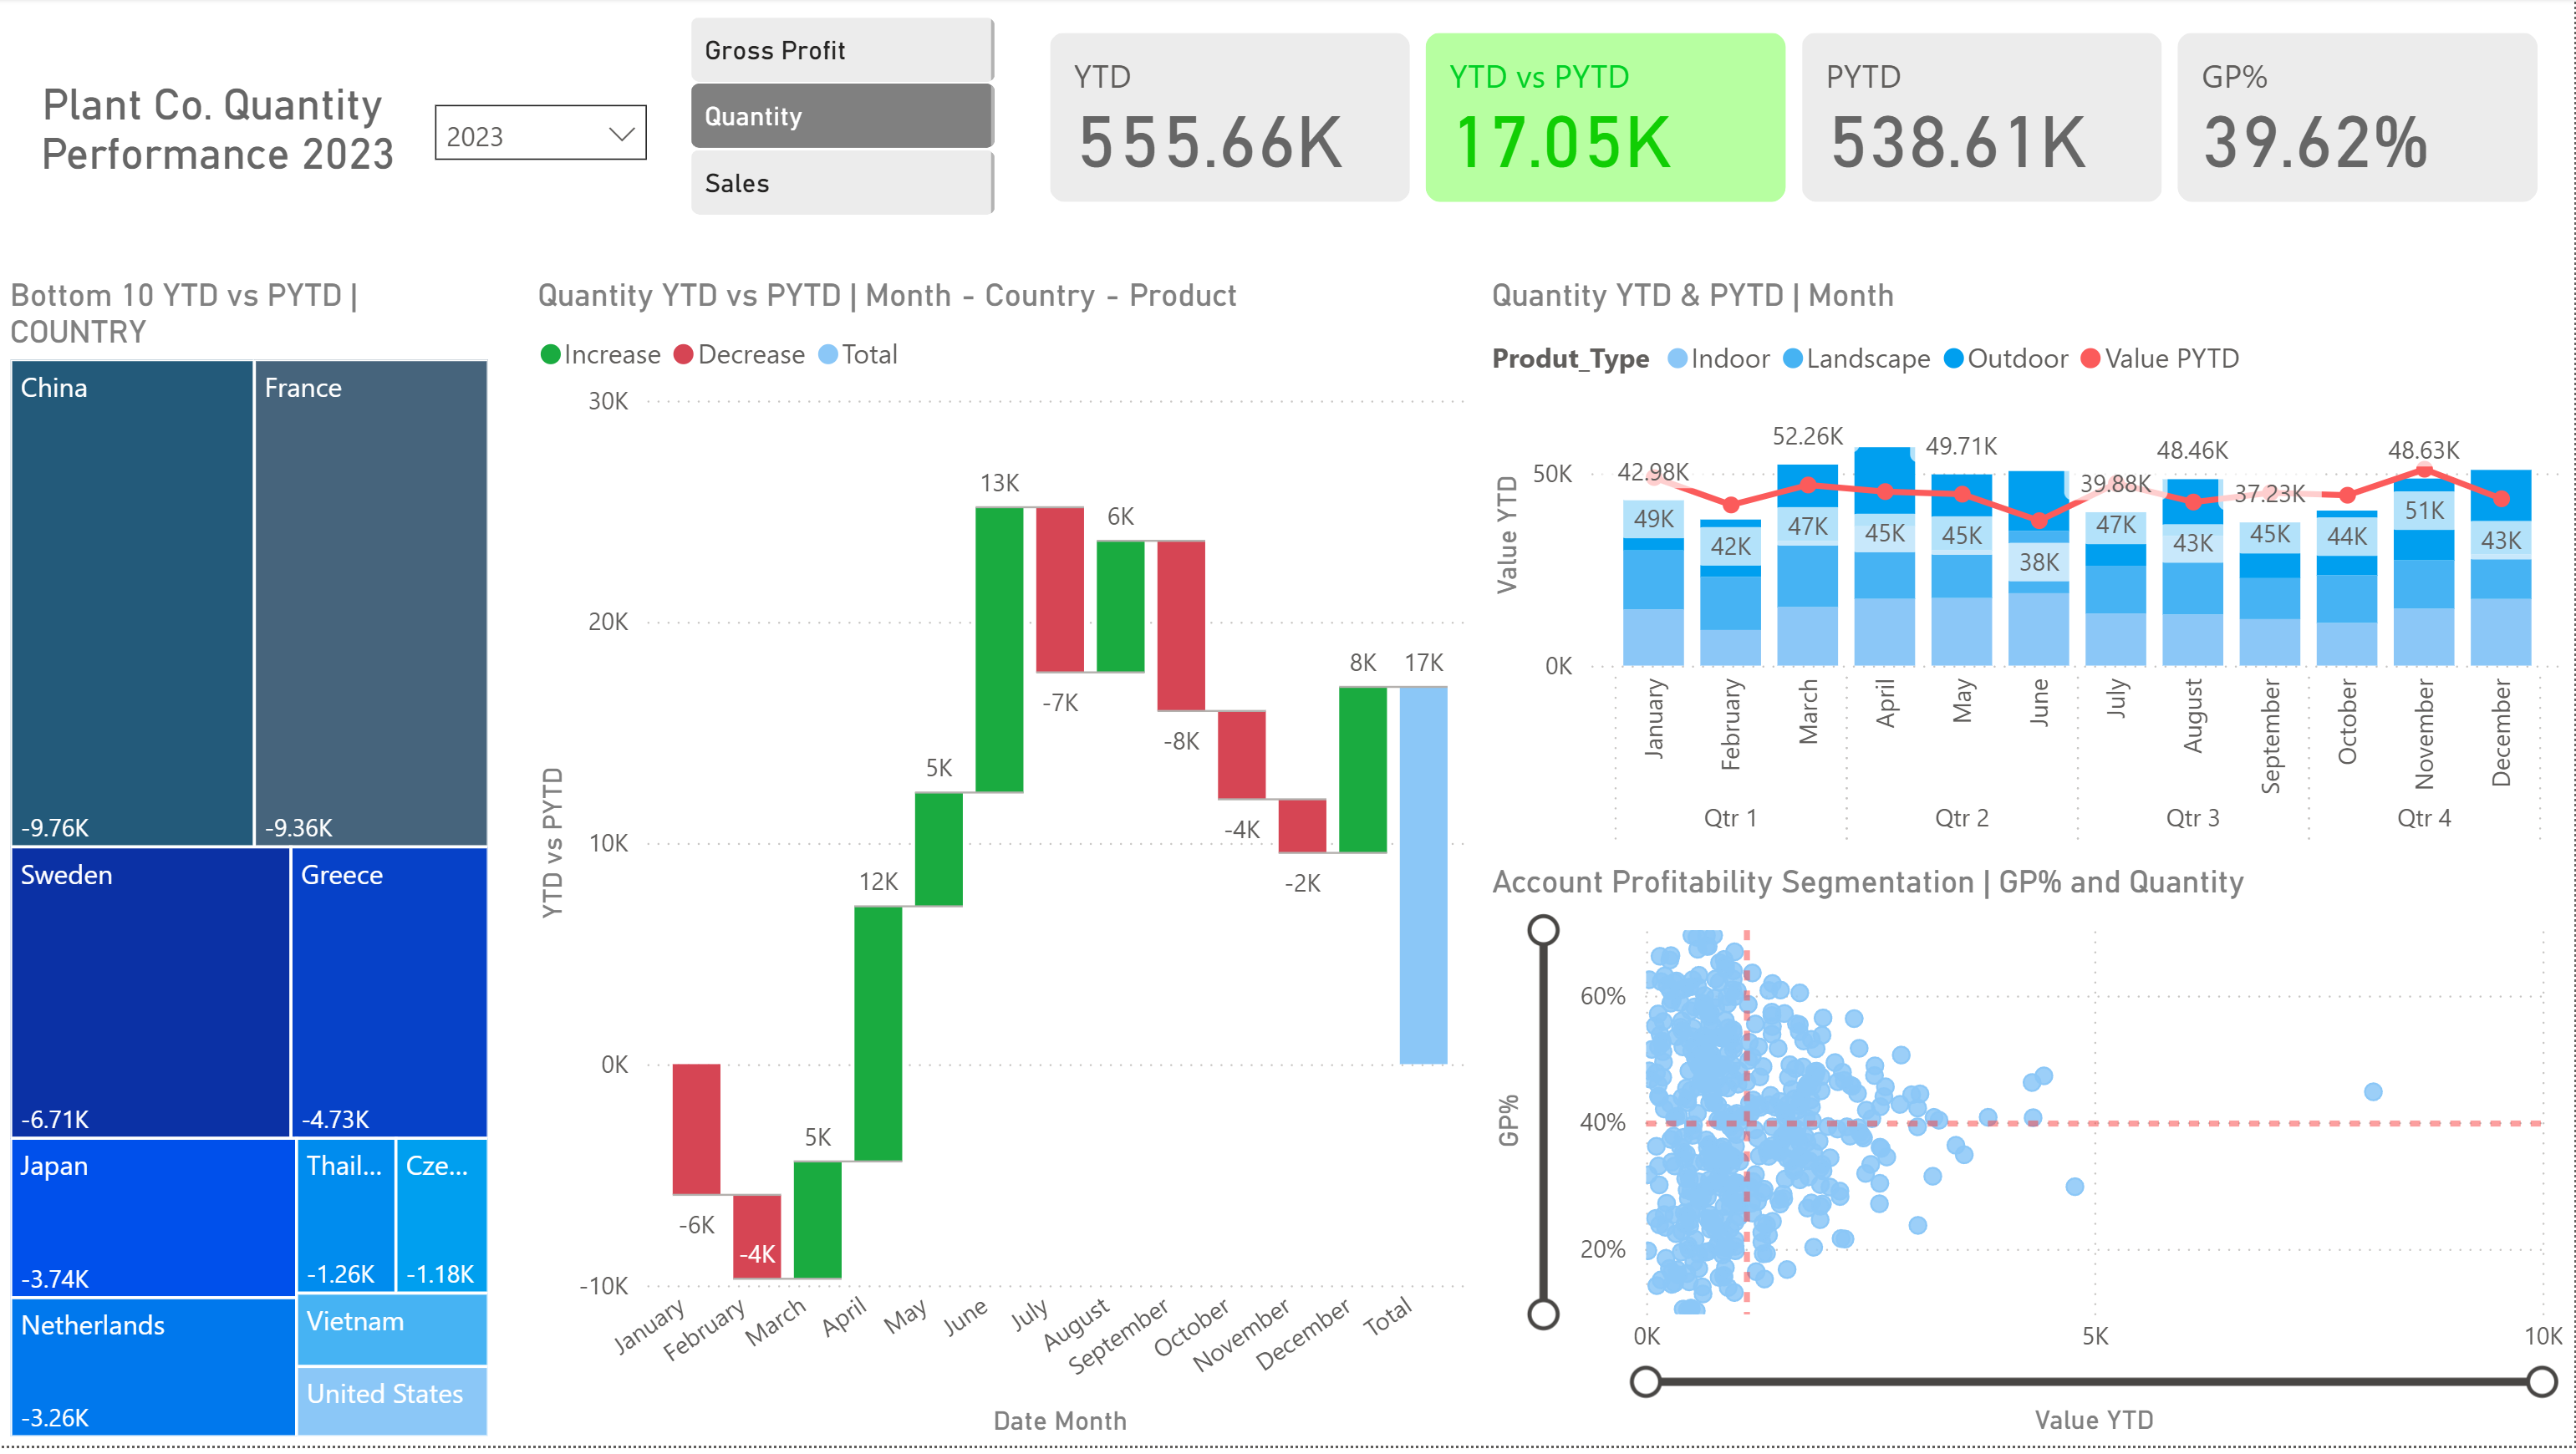

Layout of this report page (visuals, bound fields, positions):
{"tool":"powerbi","page":{"name":"Performance Report","canvas":[1280,720],"ordinal":0},"visuals":[{"type":"cardVisual","fields":{"Data":["_Measures.S_YTD","_Measures.YTD vs PYTD","_Measures.S_PYTD","_Measures.GP%"]},"box":[505.1,0,774.5,118.5],"z":0},{"type":"advancedSlicerVisual","fields":{"Values":["Slc_Values.Values"]},"box":[338.6,4.4,161.5,109.1],"z":1000},{"type":"slicer","fields":{"Values":["Dim_Date.Date.Variation.Date Hierarchy.Year"]},"box":[206.4,43,125.3,41.8],"z":2000},{"type":"treemap","title":"Bottom 10 YTD vs PYTD | COUNTRY","fields":{"Values":["_Measures.YTD vs PYTD"],"Group":["Dim_Account.country"]},"box":[0,138.4,247.6,581.8],"z":3000},{"type":"waterfallChart","fields":{"Y":["_Measures.YTD vs PYTD"],"Category":["Dim_Date.Date.Variation.Date Hierarchy.Month","Dim_Account.country","Dim_Product.Produt_Type","Dim_Product.Product_Name"]},"box":[262.5,138.4,474.5,581.2],"z":4000},{"type":"lineStackedColumnComboChart","fields":{"Y":["_Measures.S_YTD"],"Y2":["_Measures.S_PYTD"],"Category":["Dim_Date.Date.Variation.Date Hierarchy.Quarter","Dim_Date.Date.Variation.Date Hierarchy.Month"],"Series":["Dim_Product.Produt_Type"]},"box":[737.1,138.4,542.5,291.2],"z":5000},{"type":"scatterChart","fields":{"Y":["_Measures.GP%"],"X":["_Measures.S_YTD"],"Category":["Dim_Account.Account"]},"box":[737.1,430.3,542.5,288.7],"z":6000},{"type":"card","fields":{"Values":["_Measures._Report title"]},"box":[14.3,28.1,187.7,71.7],"z":7000}]}

Visuals, with their boxes in screenshot pixels (x1, y1, x2, y2), scaled from the page's 1280x720 canvas onto the 2576x1454 screenshot:
cardVisual - _Measures.S_YTD x _Measures.YTD vs PYTD: bbox=(1016, 0, 2575, 239)
advancedSlicerVisual - Slc_Values.Values: bbox=(681, 9, 1006, 229)
slicer - Dim_Date.Date.Variation.Date Hierarchy.Year: bbox=(415, 87, 668, 171)
"Bottom 10 YTD vs PYTD | COUNTRY" treemap: bbox=(0, 279, 498, 1453)
waterfallChart - _Measures.YTD vs PYTD x Dim_Date.Date.Variation.Date Hierarchy.Month: bbox=(528, 279, 1484, 1453)
lineStackedColumnComboChart - _Measures.S_YTD x _Measures.S_PYTD: bbox=(1484, 279, 2575, 867)
scatterChart - _Measures.GP% x _Measures.S_YTD: bbox=(1484, 869, 2575, 1452)
card - _Measures._Report title: bbox=(28, 57, 406, 201)
